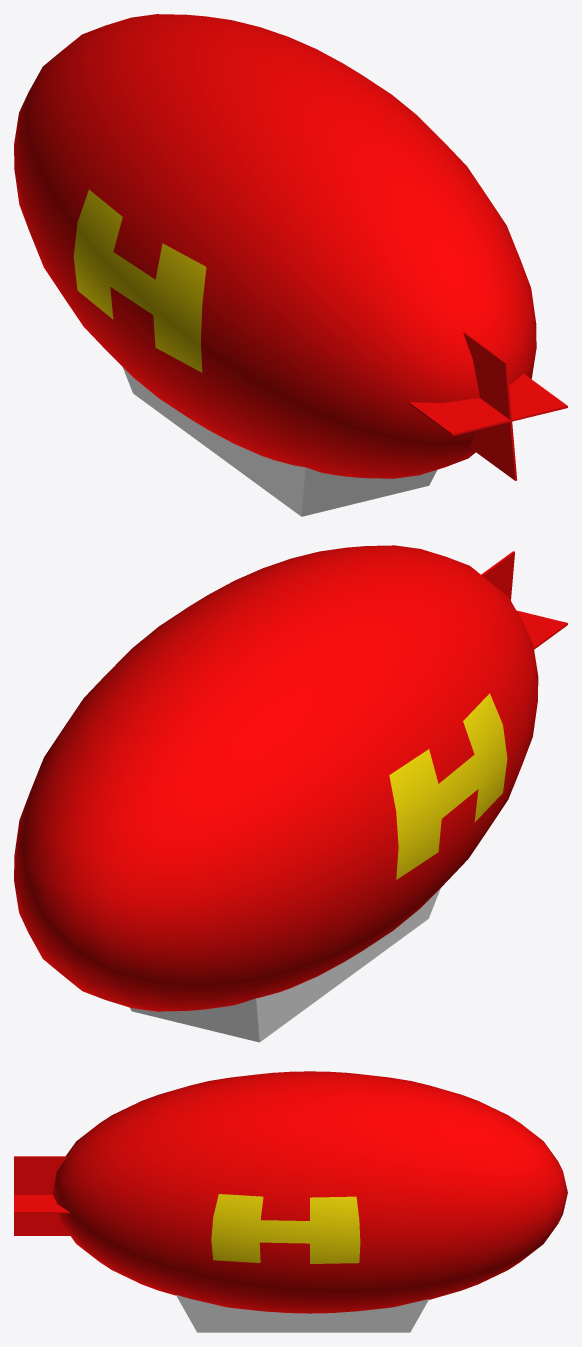
Rendered from helio.FBX.
The picture shows the model from 3 angles, top to bottom: view 1: azimuth 30°, elevation 25°; view 2: azimuth 150°, elevation 25°; view 3: azimuth 270°, elevation 25°; orthographic projection. The views are drawn at different scales.
Parts seen in each view (by area): view 1: Sphere033; view 2: Sphere033; view 3: Sphere033.
Part boxes in pixels (x1=…): Sphere033: x1=14, y1=14, x2=567, y2=516; Sphere033: x1=14, y1=545, x2=567, y2=1042; Sphere033: x1=14, y1=1071, x2=567, y2=1332.
Size of the model in its own units: 17.14 by 18.07 by 39.41.
